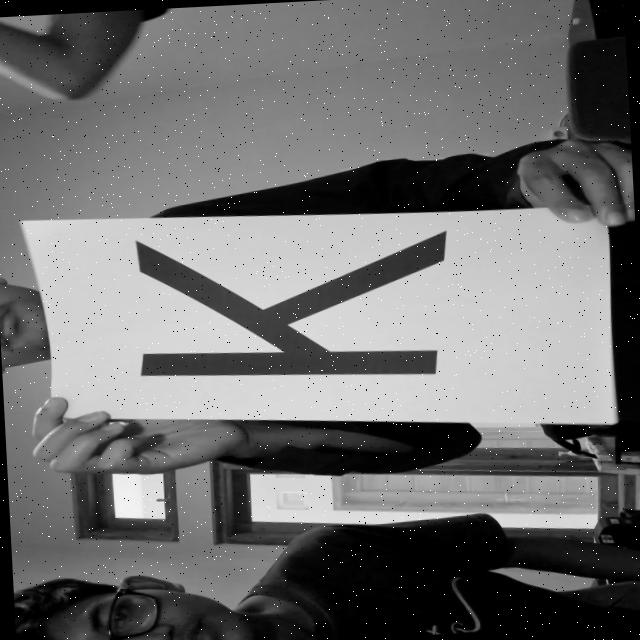k: (100, 224, 488, 406)
